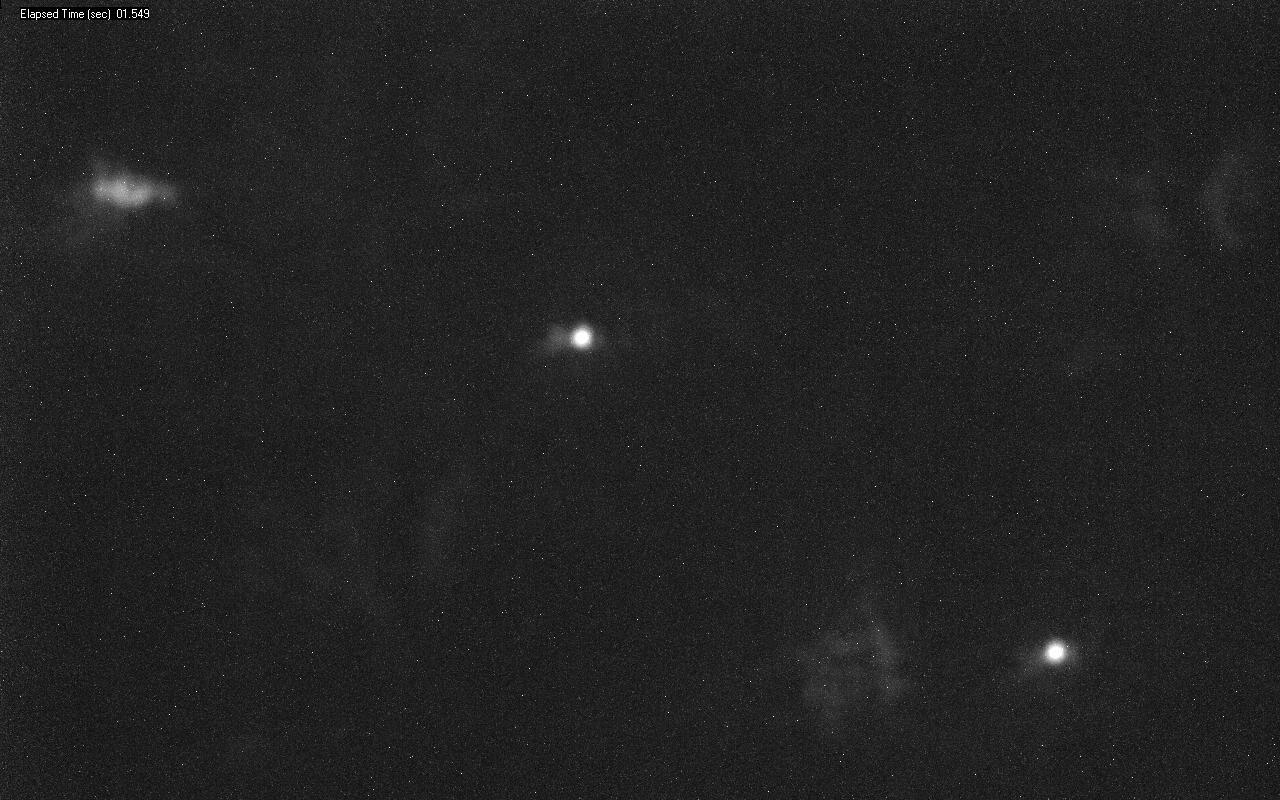Bead: (1043, 640, 1068, 664), (573, 327, 591, 348)
